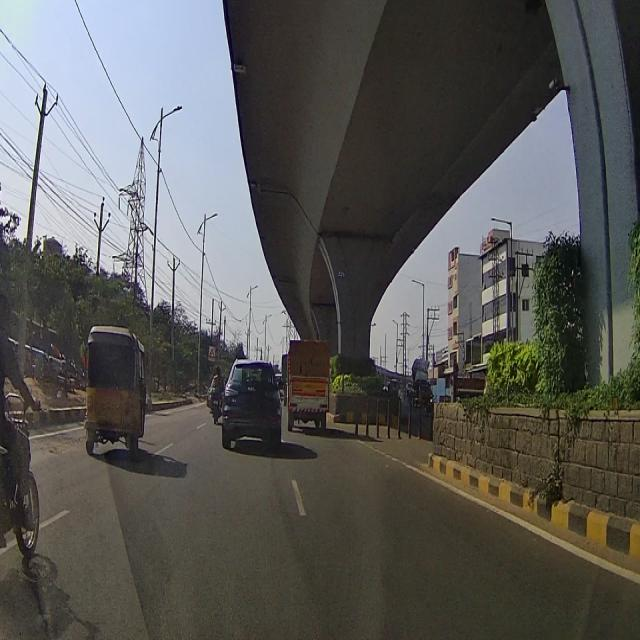right-hand-curve: (207, 341, 217, 363)
